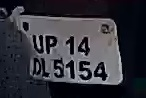1: (62, 33, 77, 58), (63, 58, 77, 83)
4: (93, 58, 109, 83), (78, 35, 94, 56)
5: (77, 58, 93, 85), (52, 57, 64, 80)
D: (31, 57, 41, 76)
L: (40, 58, 51, 80)
P: (43, 33, 57, 55)
U: (30, 32, 44, 54)
